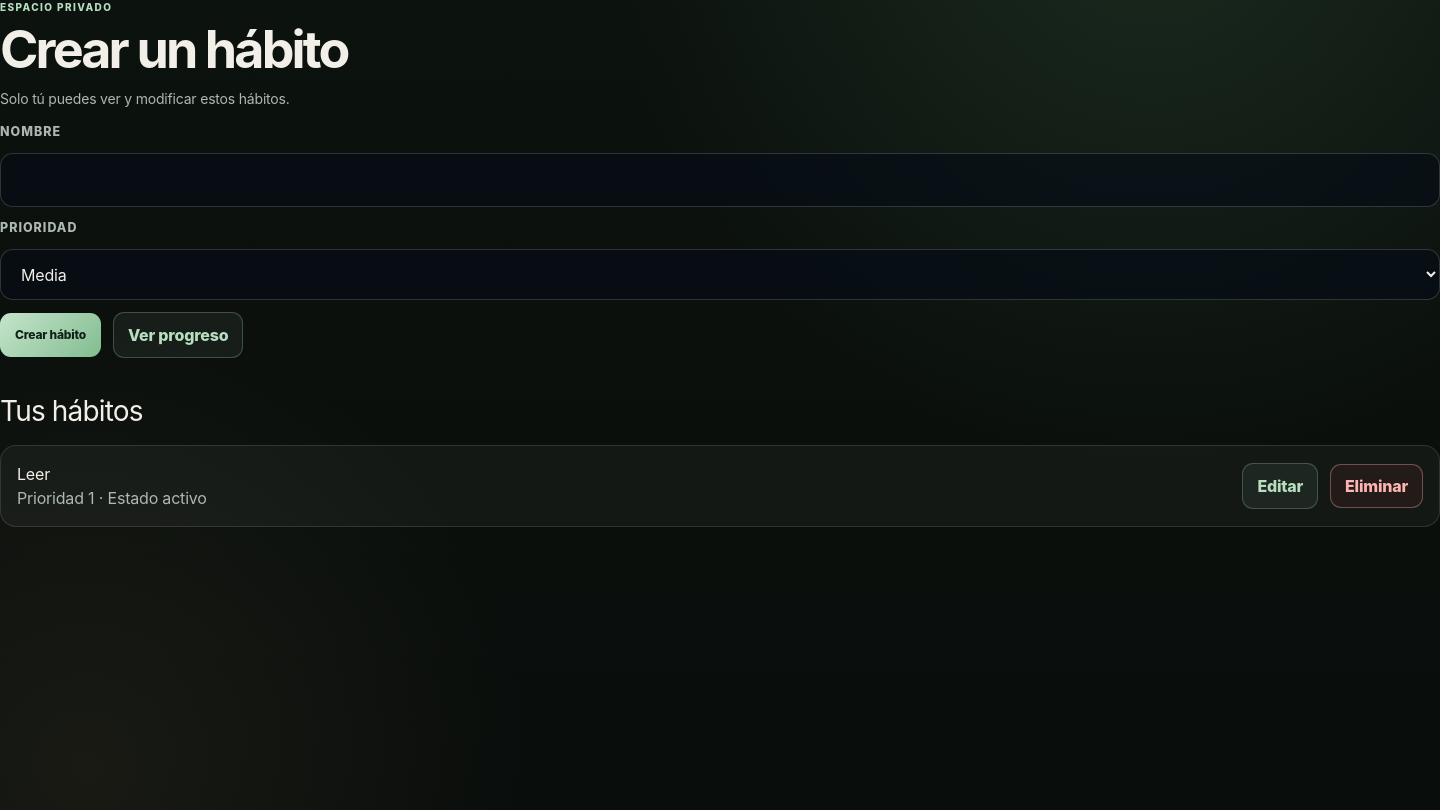
Scenario: private habit and progress flow › edits and deletes only through the owner-scoped repository
Click the button named "Editar Leer". click: [1280, 486]
box: [1242,463,1318,509]
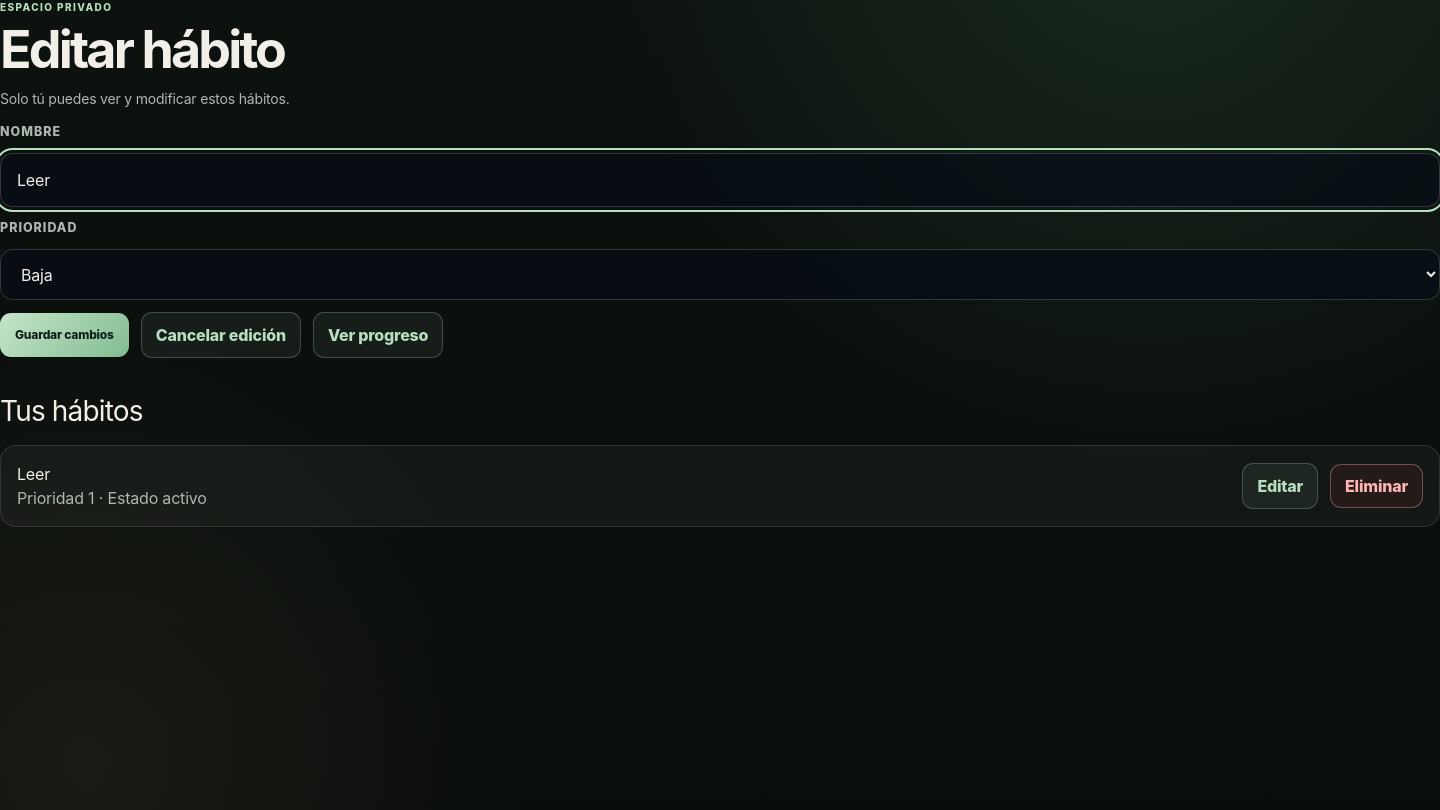
Replace the text in the field labelled "Nombre" with "Leer diez páginas". click: [720, 180]
box: [0,153,1439,207]
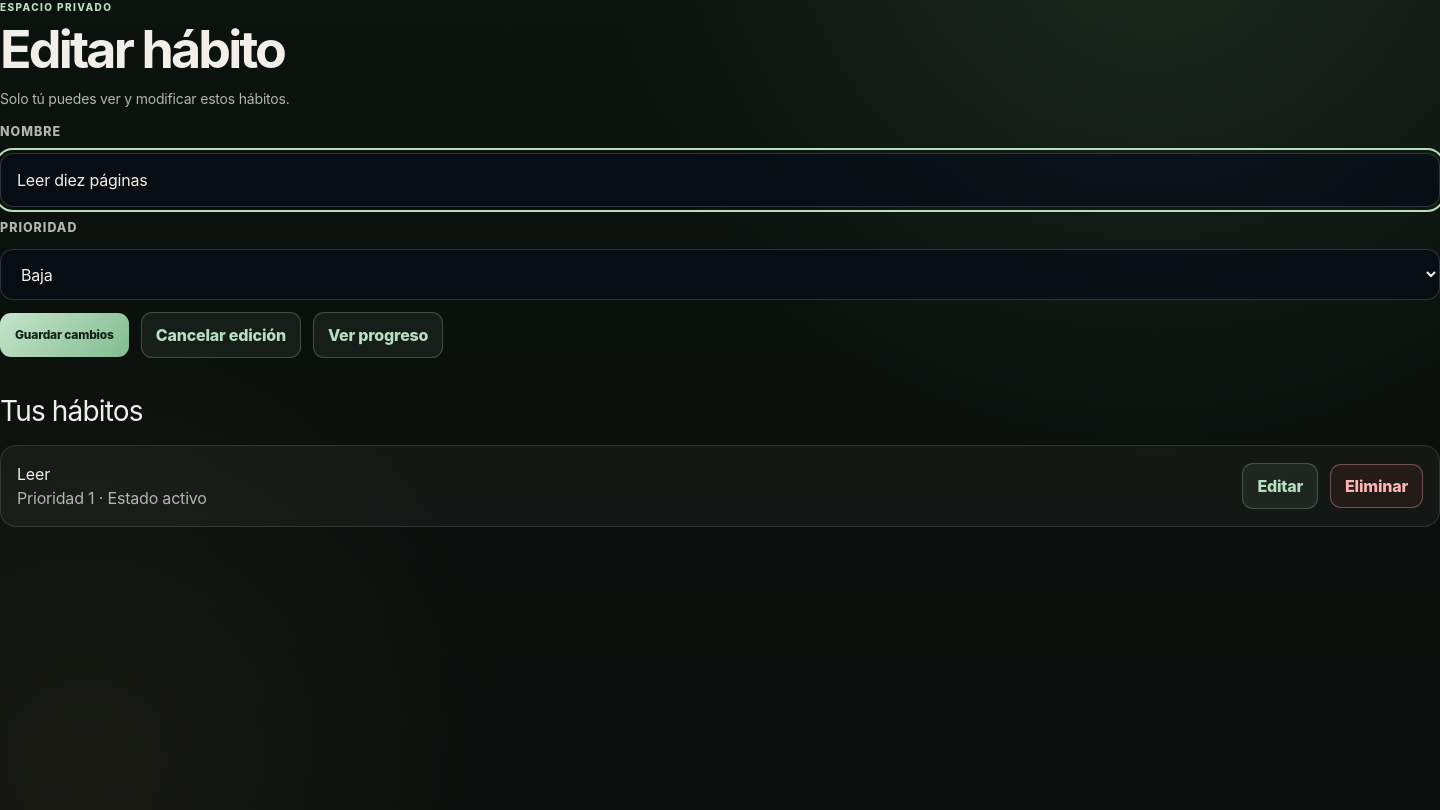
Click the button "Guardar cambios". click: [64, 336]
box: [0,314,129,358]
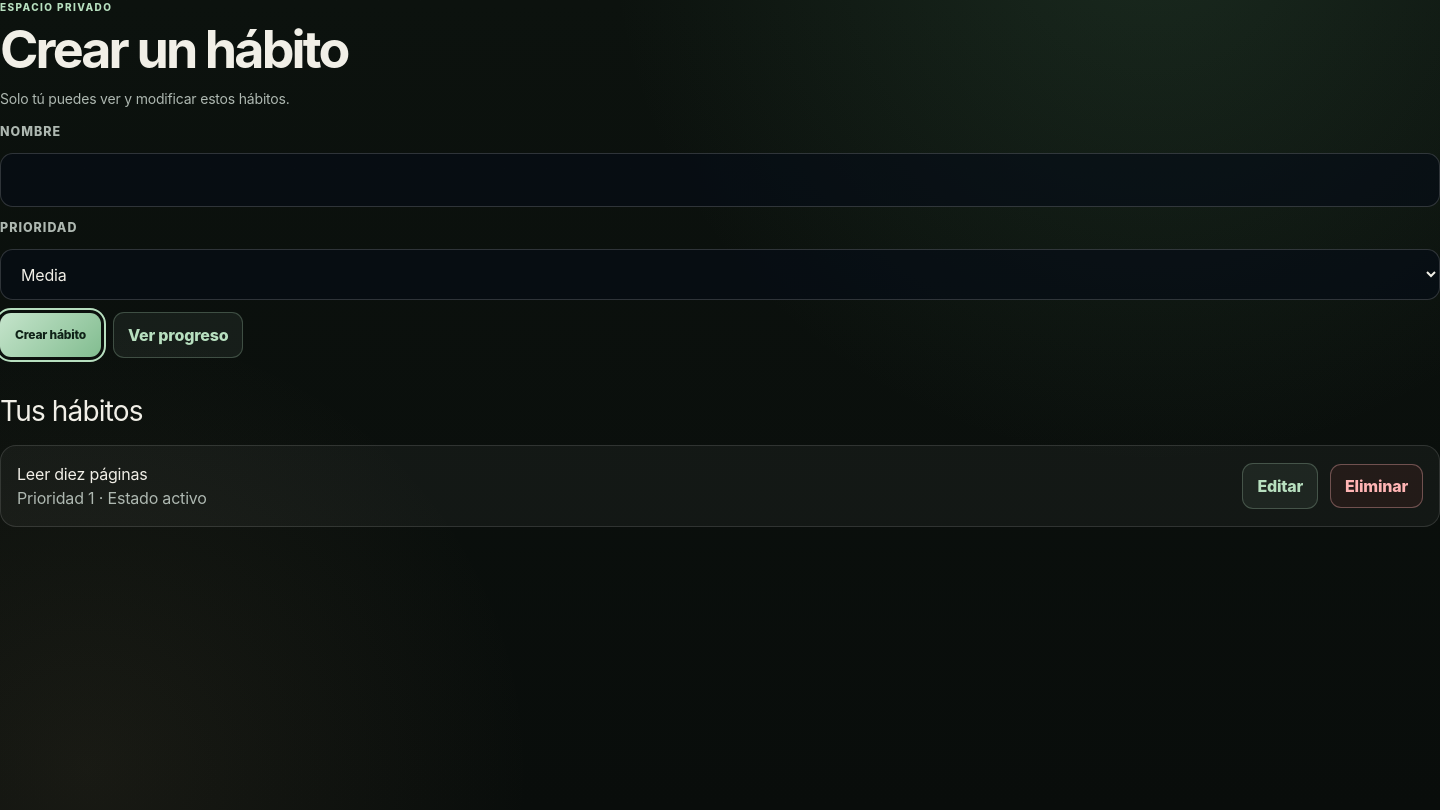
Expected: the heading "Leer diez páginas" is shown, [17,464,148,484]
Click the button named "Eliminar Leer diez páginas". click: [1376, 486]
box: [1330,464,1423,508]
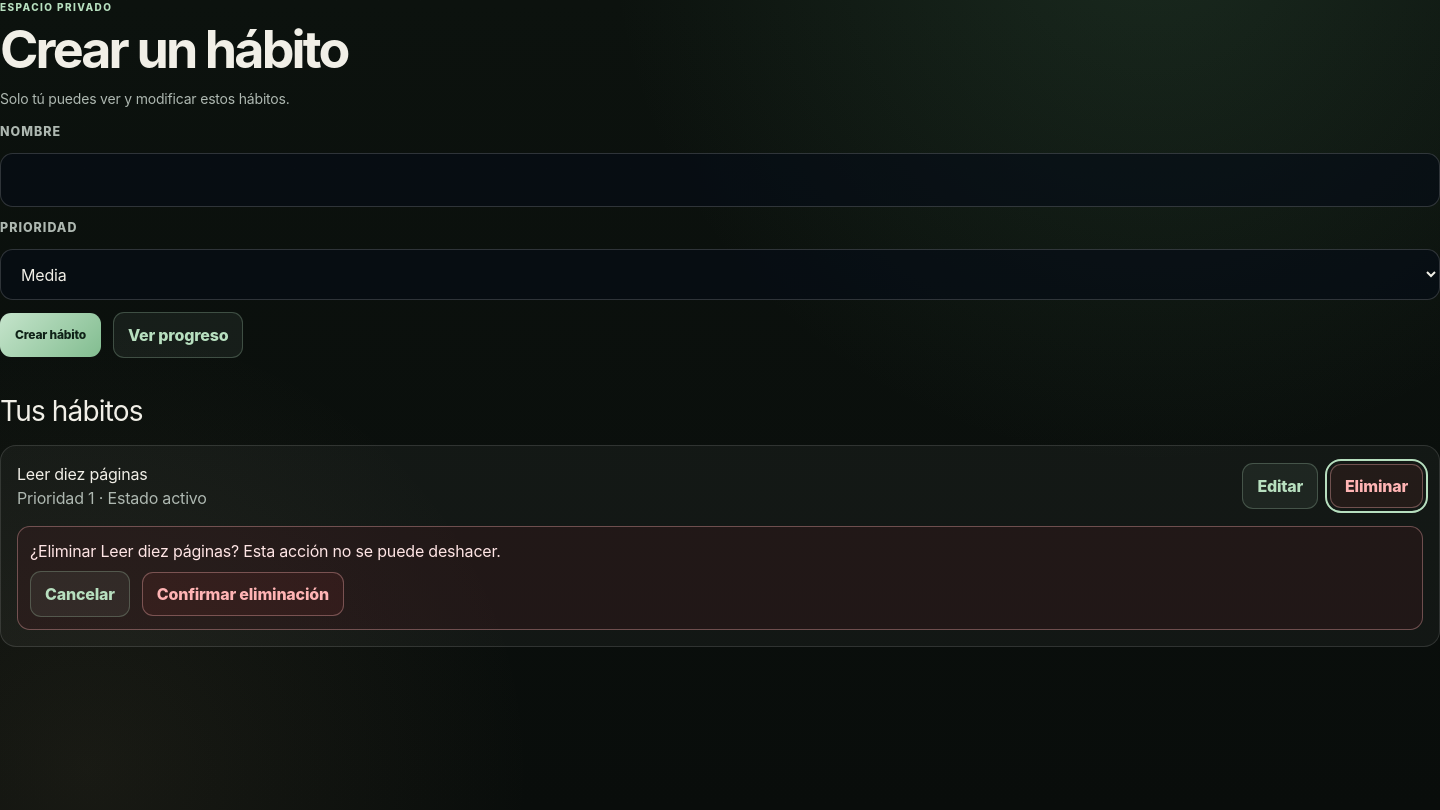
Expected: the dialog shows "¿Eliminar Leer diez páginas?", [17,526,1423,630]
Click the button "Confirmar eliminación". click: [243, 594]
box: [142,572,344,616]
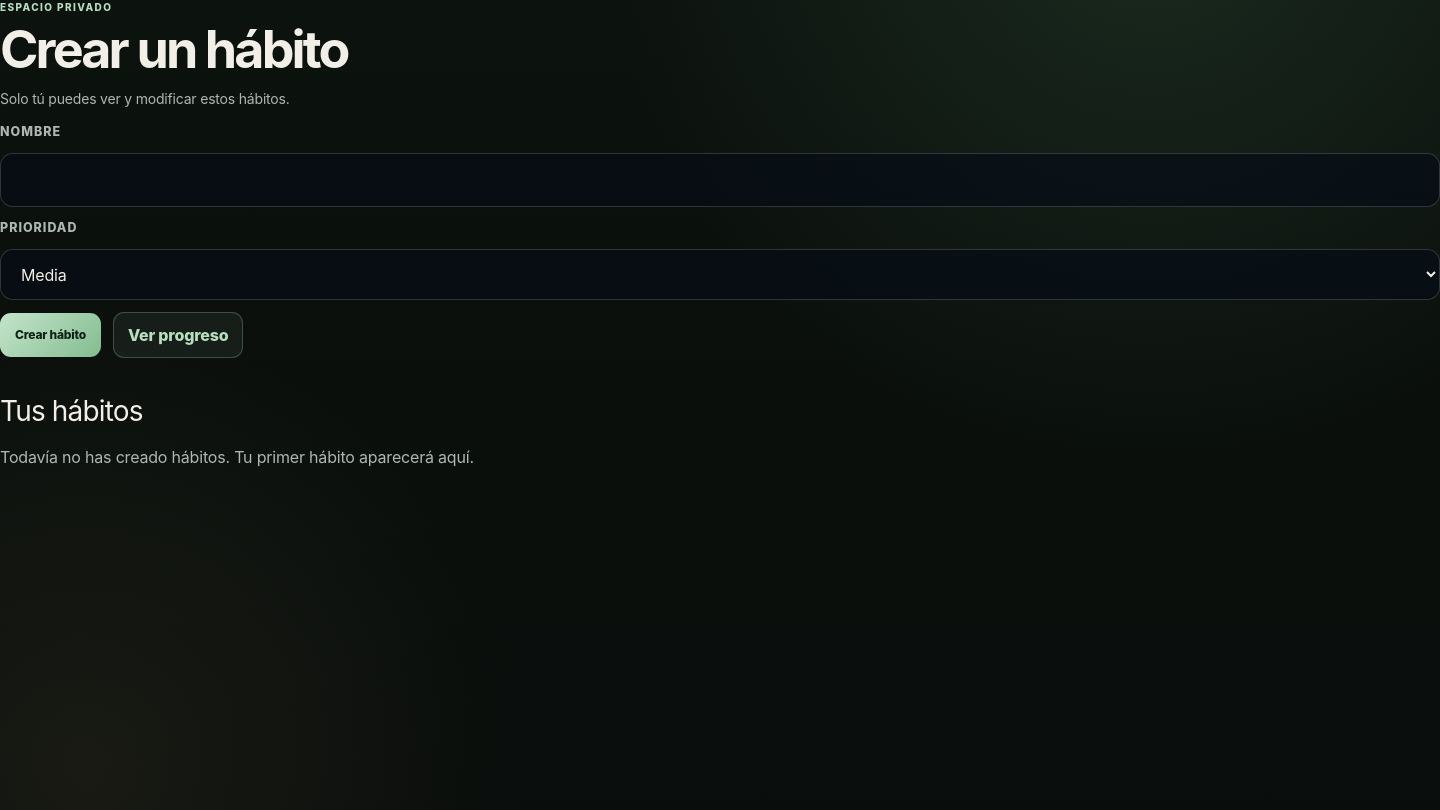
Expected: the text "Todavía no has creado hábitos" is shown, [0,447,474,467]
